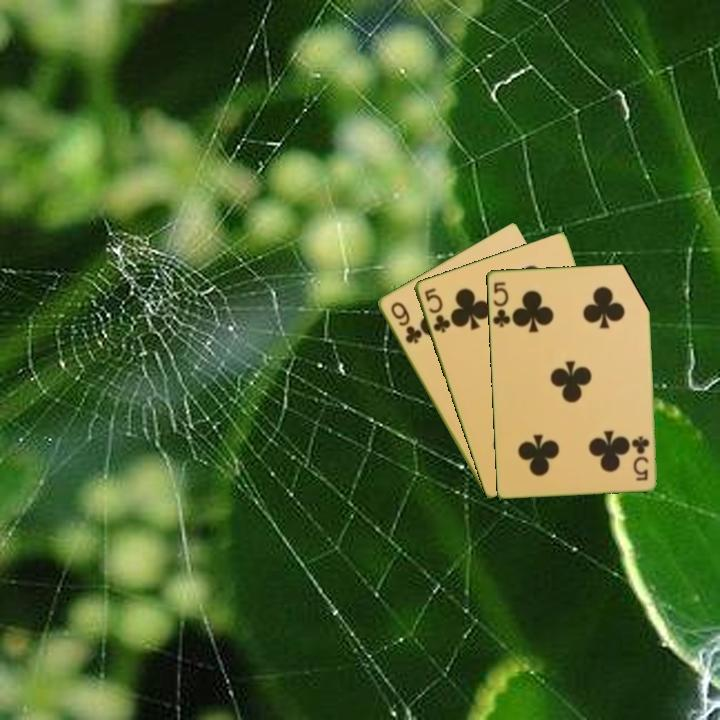5c: (420, 284, 453, 335), (489, 278, 513, 330), (629, 432, 652, 483)
9c: (386, 298, 424, 346)
